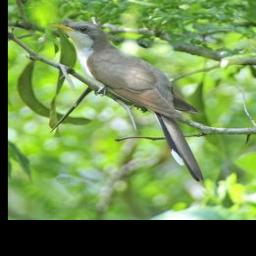Cuckoo: (50, 21, 205, 181)
